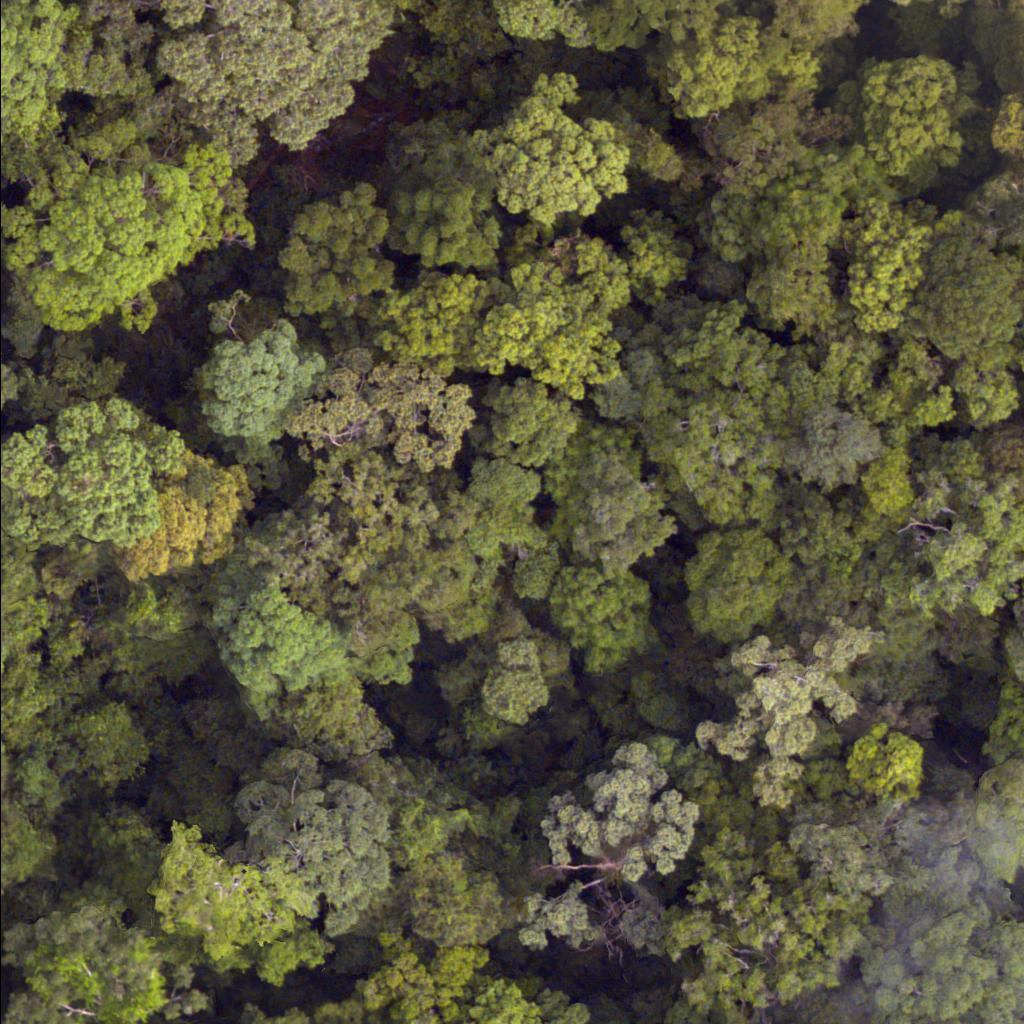crown: (0, 408, 184, 547), (283, 348, 483, 474), (486, 73, 636, 227), (194, 315, 319, 437), (125, 453, 244, 580), (0, 0, 90, 153), (481, 0, 597, 50), (0, 340, 5, 393)
